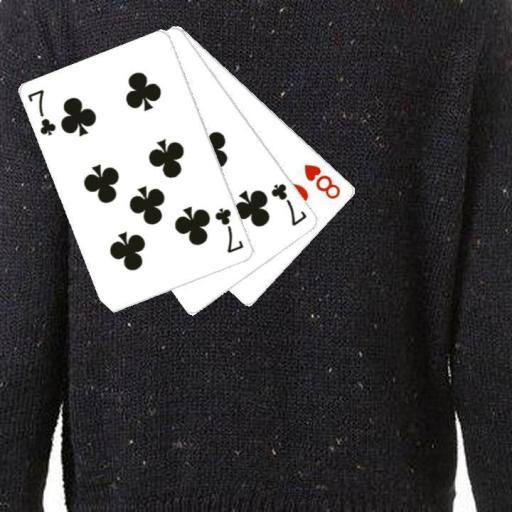7C: (268, 180, 309, 227), (24, 86, 58, 137), (212, 205, 245, 255)
8H: (302, 161, 343, 201)
